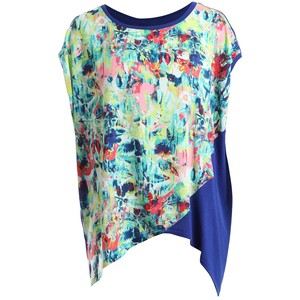C_short blouse: (48, 2, 253, 296)
